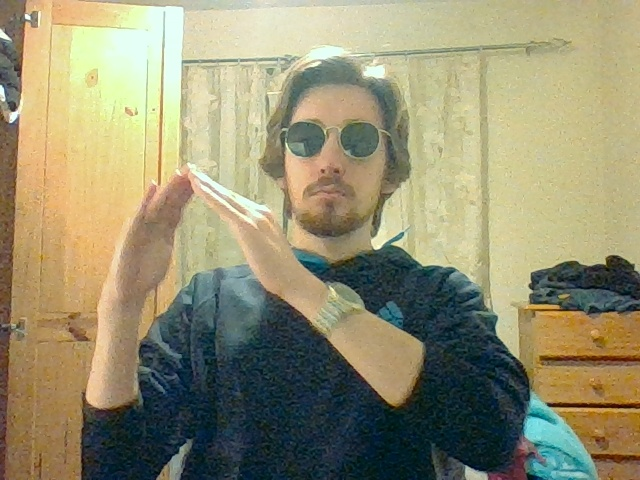home: (132, 164, 276, 242)
